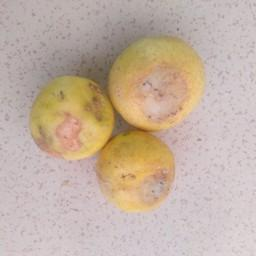Bad_lime: (108, 33, 206, 131), (31, 76, 113, 161), (98, 129, 178, 212)
